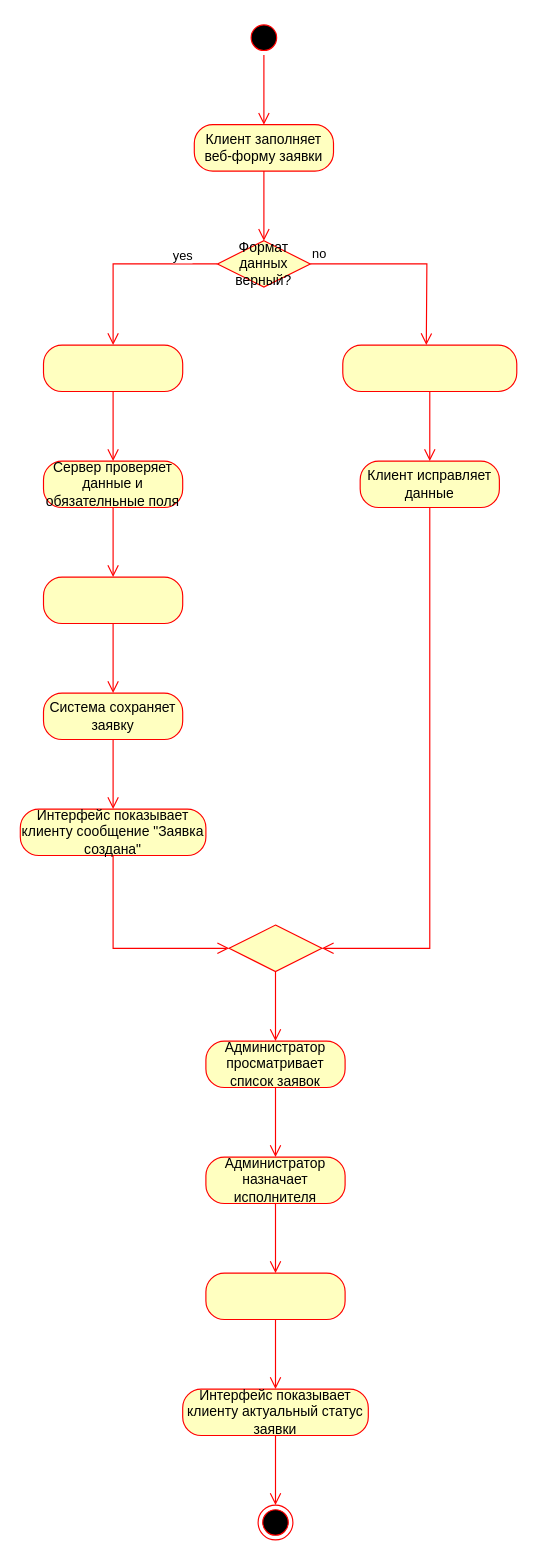
This 537x1560 diagram has some shape labels left out. Each missing label, with the centre of its shape:
Интерфейс отправляет данные на сервер: (x=112, y=368)
Интерфейс подсвечивает ошибки в полях формы: (x=429, y=368)
Сервер присваивает статус "Новая": (x=112, y=600)
Система меняет статус заявки на "На рассмотрении": (x=275, y=1296)
